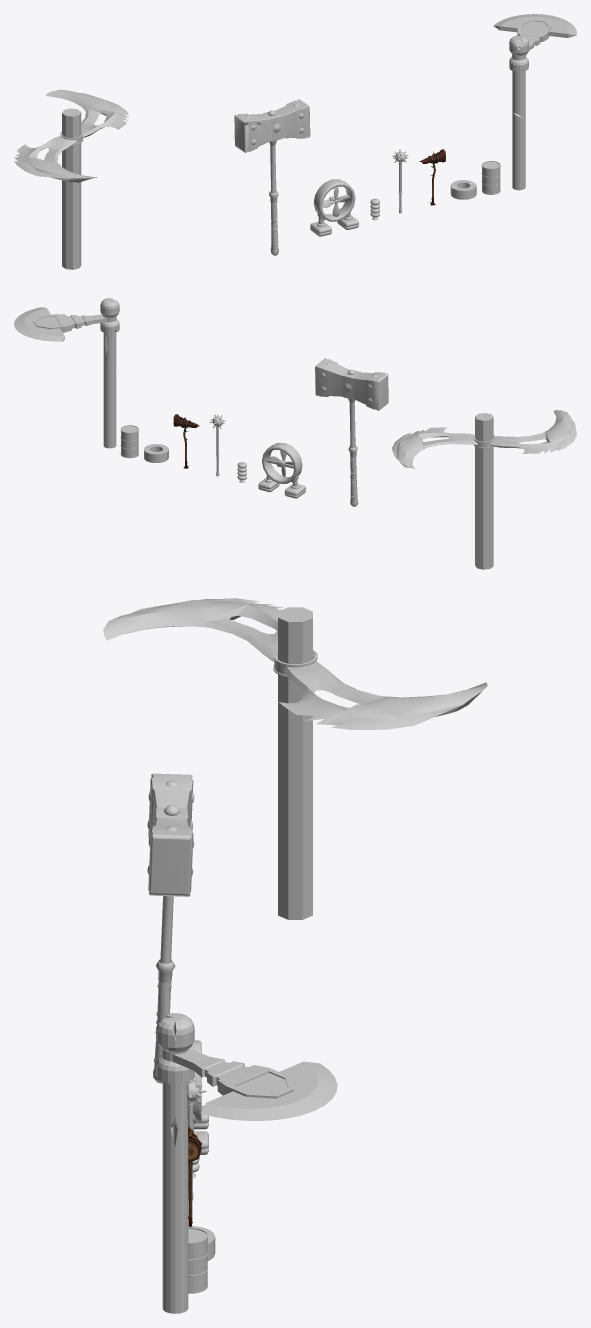
3 renders of one model, top to bottom at view 1: azimuth 30°, elevation 25°; view 2: azimuth 150°, elevation 25°; view 3: azimuth 270°, elevation 25°, orthographic. The views are drawn at different scales.
Visible parts, largest first — view 1: blade, hammber-02, wood Cylinder, Blades_Main, Blades, fan base, Barrel, Gun_Mesh, hammer; view 2: blade, hammber-02, wood Cylinder, Blades_Main, Blades, fan base, Barrel, Gun_Mesh; view 3: blade, wood Cylinder, Blades_Main, Blades, hammber-02, Barrel.
Boxes of the visible parts, box(x1,y1,x2,y2) form: blade: box(14, 89, 128, 182); hammber-02: box(234, 99, 310, 255); wood Cylinder: box(62, 108, 81, 269); Blades_Main: box(509, 35, 528, 190); Blades: box(493, 14, 576, 55); fan base: box(310, 179, 358, 236); Barrel: box(481, 161, 500, 194); Gun_Mesh: box(450, 180, 476, 199); hammer: box(419, 149, 445, 205); blade: box(392, 410, 576, 469); hammber-02: box(315, 358, 388, 506); wood Cylinder: box(475, 413, 493, 569); Blades_Main: box(100, 298, 119, 448); Blades: box(14, 307, 107, 341); fan base: box(258, 442, 305, 498); Barrel: box(120, 425, 138, 458); Gun_Mesh: box(144, 444, 168, 462); blade: box(103, 598, 487, 729); wood Cylinder: box(278, 607, 312, 919); Blades_Main: box(156, 1013, 194, 1313); Blades: box(172, 1048, 337, 1120); hammber-02: box(147, 773, 194, 1083); Barrel: box(188, 1227, 207, 1293).
Size of the model in its own units: 2431 by 662 by 748.
